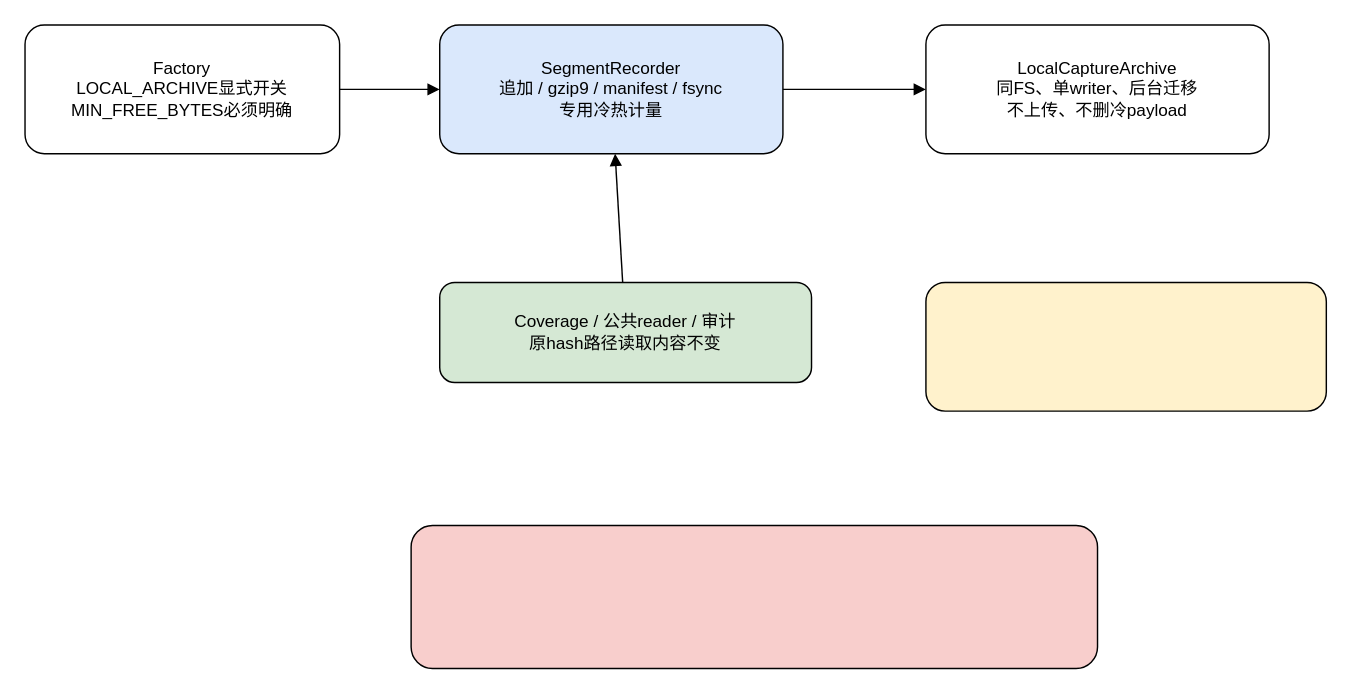
Image size: 1351x694. Some labels were removed from this diagram. The centre of each missing label's shape, as x and y in pixels:
"保持隔离：COS/segmented拒绝本地alias布局 Trial仍绑定源码+包hash，未实现许可迁移 候选包 ≠ 已上线" belongs at [754,596].
"旧包reader仍可读 旧quota仍计冷数据，不保证续写 旧writer不认新锁，切换必须停旧进程" belongs at [1125,346].
